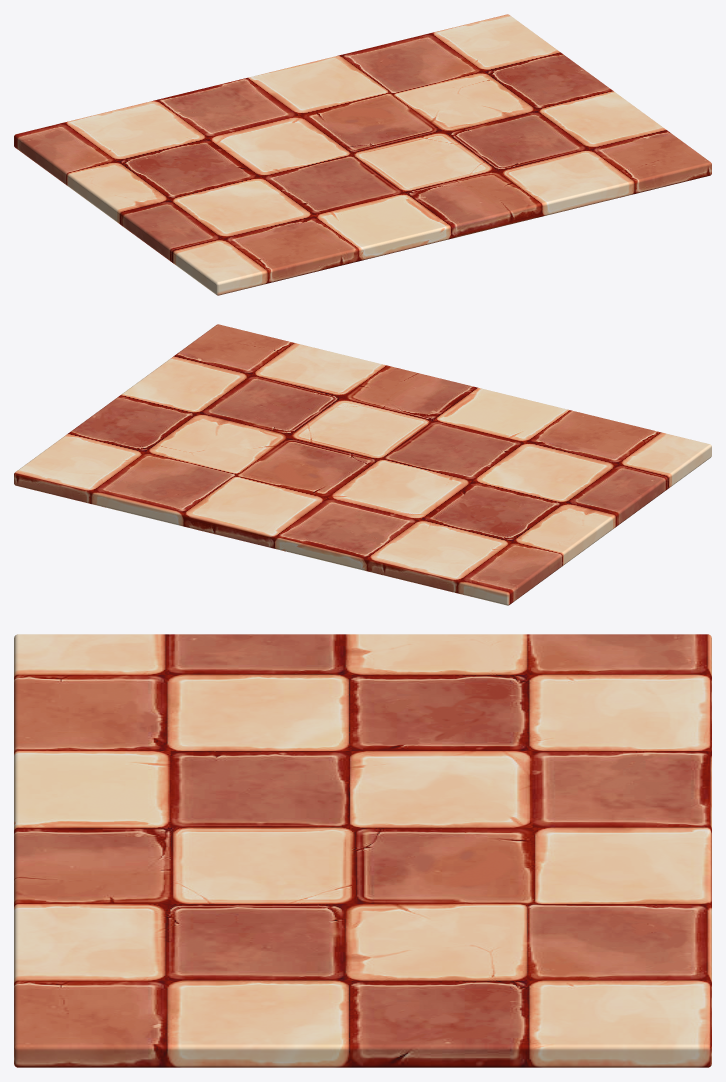
Rendered from Suelo.fbx.
3 views of the same model, one above another, from view 1: azimuth 30°, elevation 25°; view 2: azimuth 150°, elevation 25°; view 3: azimuth 270°, elevation 25° (orthographic). The views are drawn at different scales.
Visible parts, largest first — view 1: Suelo; view 2: Suelo; view 3: Suelo.
Part boxes in pixels (left/top/right/bottom): Suelo: left=14, top=14, right=711, bottom=295; Suelo: left=14, top=324, right=711, bottom=605; Suelo: left=14, top=634, right=711, bottom=1067.
Size of the model in its own units: 2799 by 72.94 by 1997.
